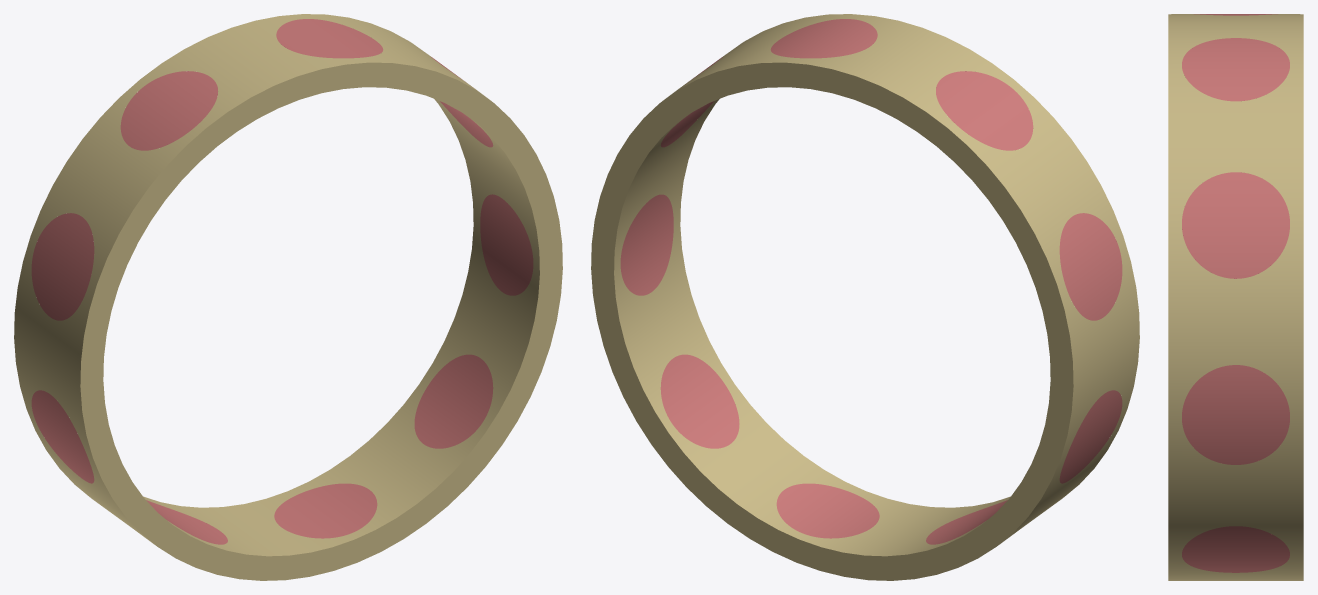
The model's file is step_15.glb.
3 views of the same model, side by side, from view 1: azimuth 30°, elevation 25°; view 2: azimuth 150°, elevation 25°; view 3: azimuth 270°, elevation 25° (orthographic).
Parts seen in each view (by area): view 1: part__bearing cage, removed__bearing cage; view 2: part__bearing cage, removed__bearing cage; view 3: part__bearing cage, removed__bearing cage.
Boxes of the visible parts, x1,y1,x2,y2 form: part__bearing cage: (14, 14, 562, 580); removed__bearing cage: (31, 19, 533, 544); part__bearing cage: (591, 14, 1139, 580); removed__bearing cage: (620, 19, 1122, 544); part__bearing cage: (1168, 14, 1303, 580); removed__bearing cage: (1182, 14, 1289, 572).
Size of the model in its own units: 62.99 by 63 by 15.
